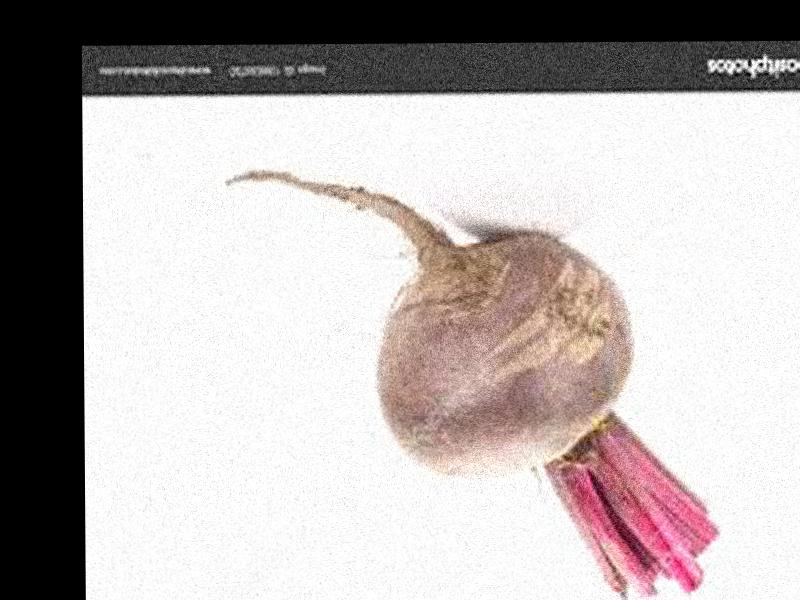Beet: (225, 168, 714, 600)
